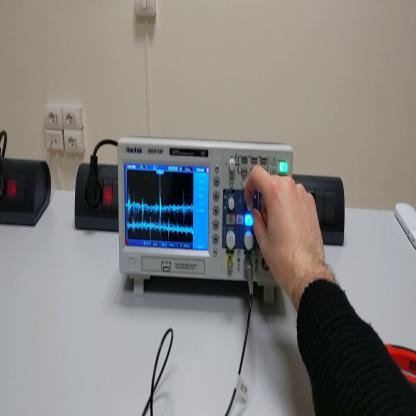hand: (244, 164, 327, 298)
oscilloscope: (118, 134, 294, 303)
pliers: (386, 337, 415, 393)
socket: (2, 157, 52, 228), (76, 158, 118, 233)
